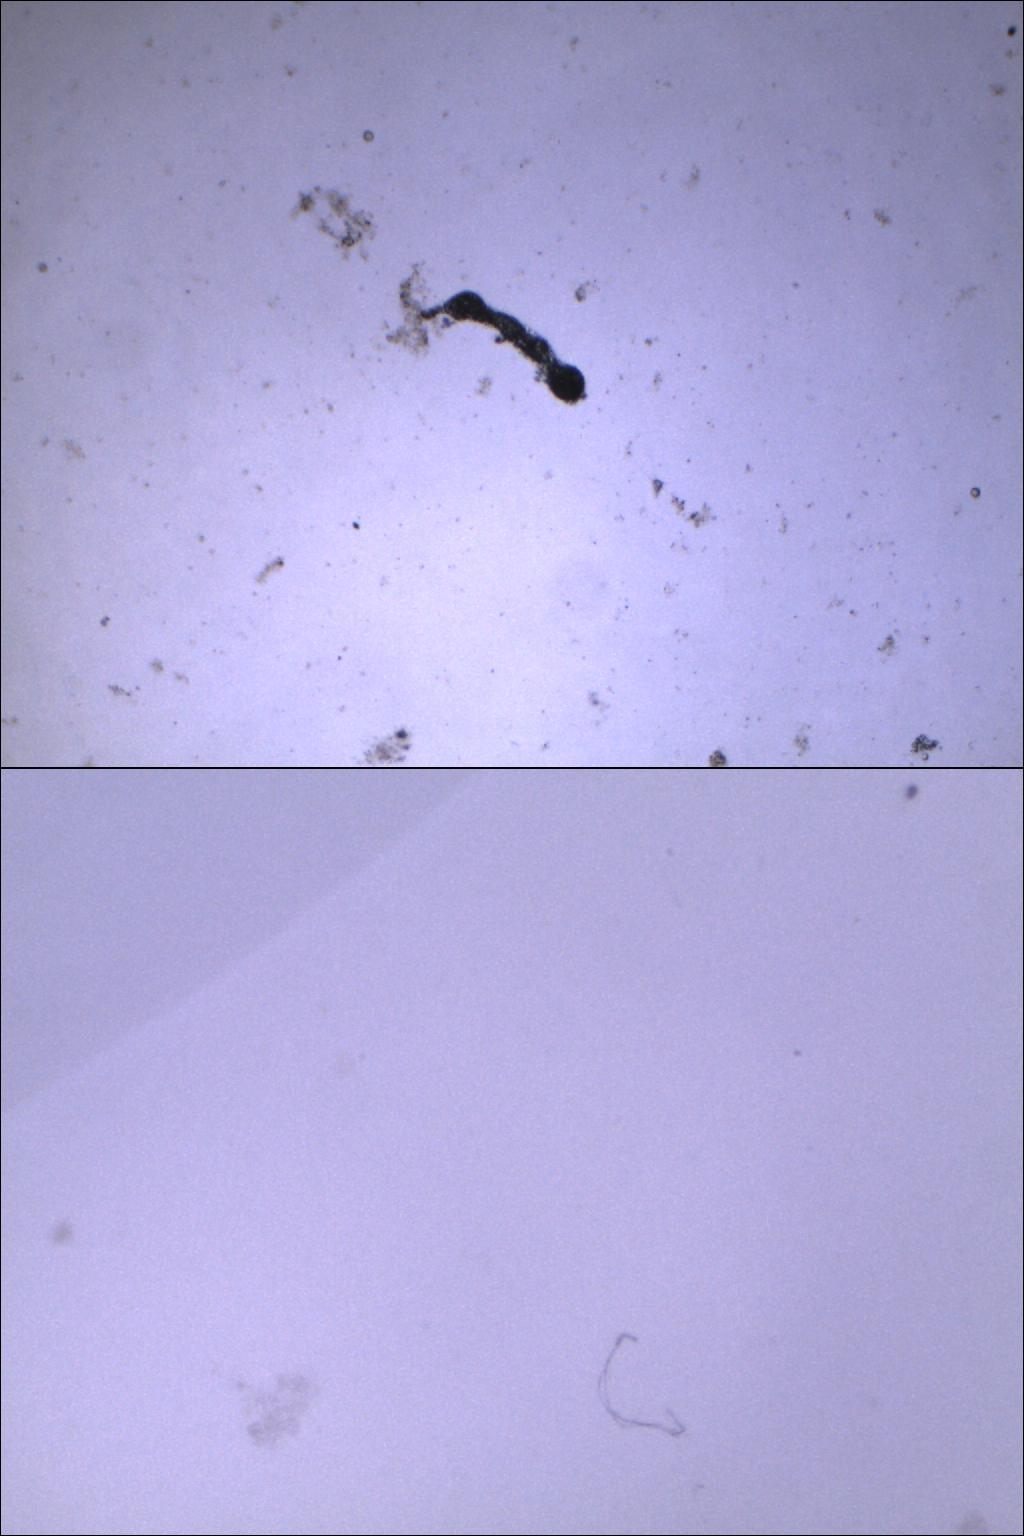N.Fowleri Amoeba: (197, 1339, 331, 1467)
Proteus Amoeba: (422, 275, 609, 427)
